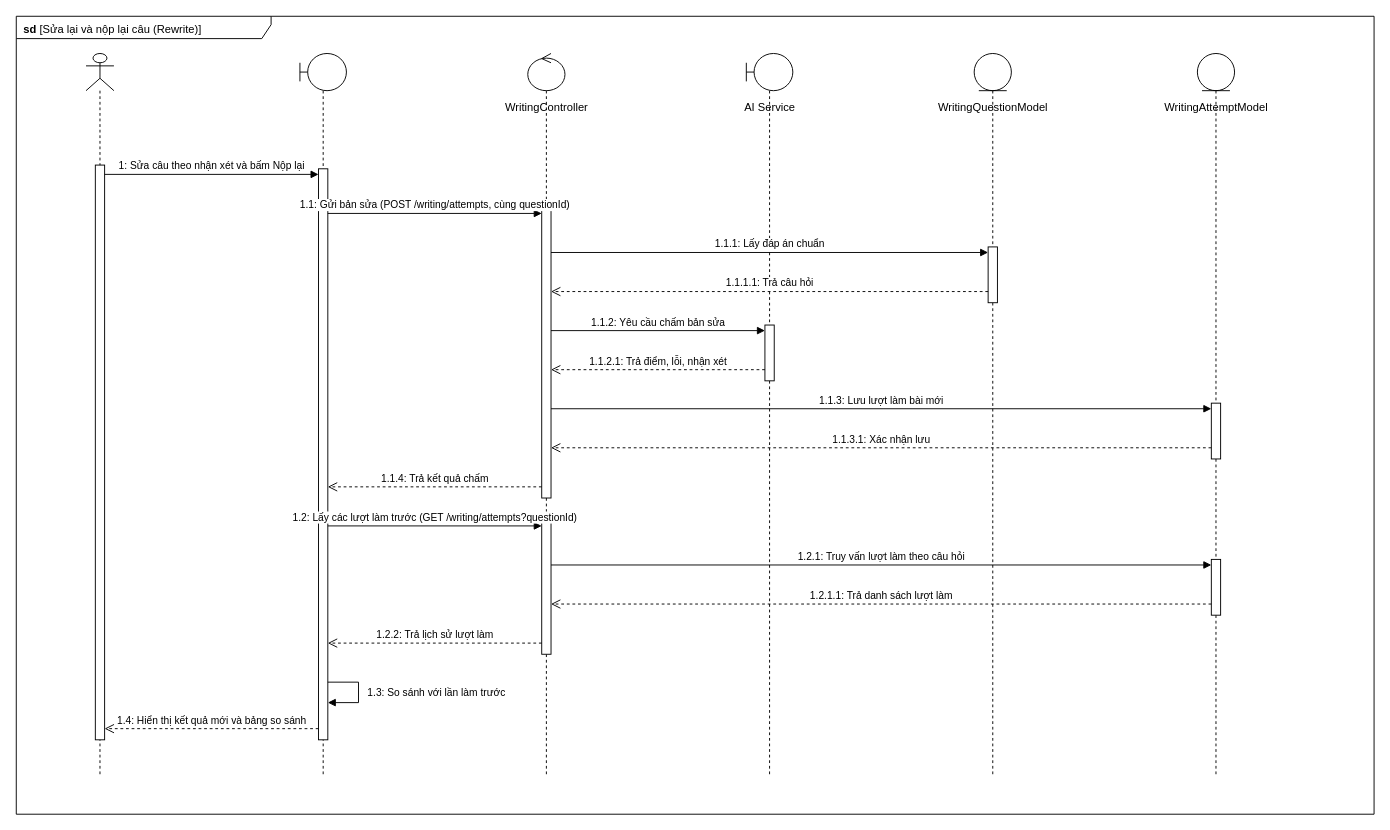
This 1390x830 diagram has some shape labels left out. Here are the shapes that lost their labels. From the top down, the box of each, then its label:
(85, 53, 114, 777): Member
(299, 53, 346, 777): UI Làm bài
